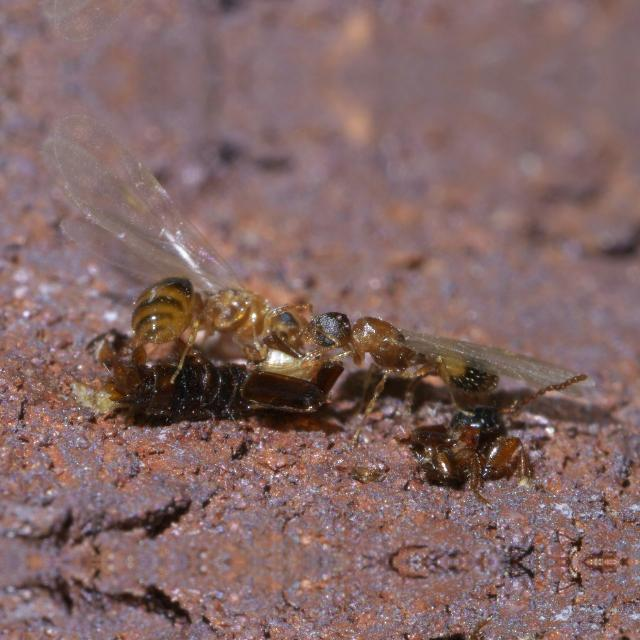Temnothorax: (278, 258, 600, 412), (118, 242, 330, 362), (395, 384, 563, 514), (395, 608, 563, 640)
